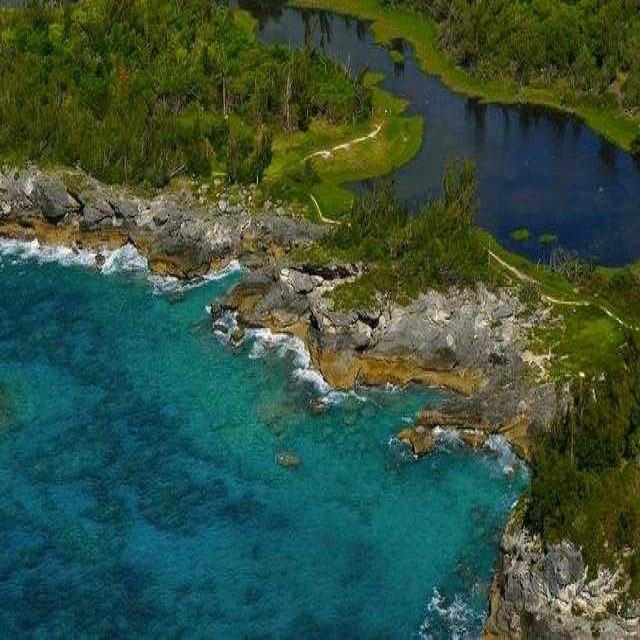Ponds: (263, 5, 637, 275)
